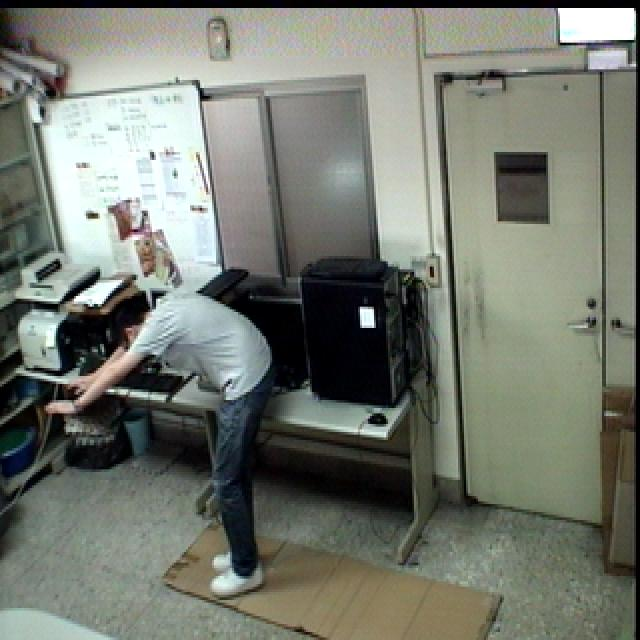bend: (40, 280, 287, 609)
